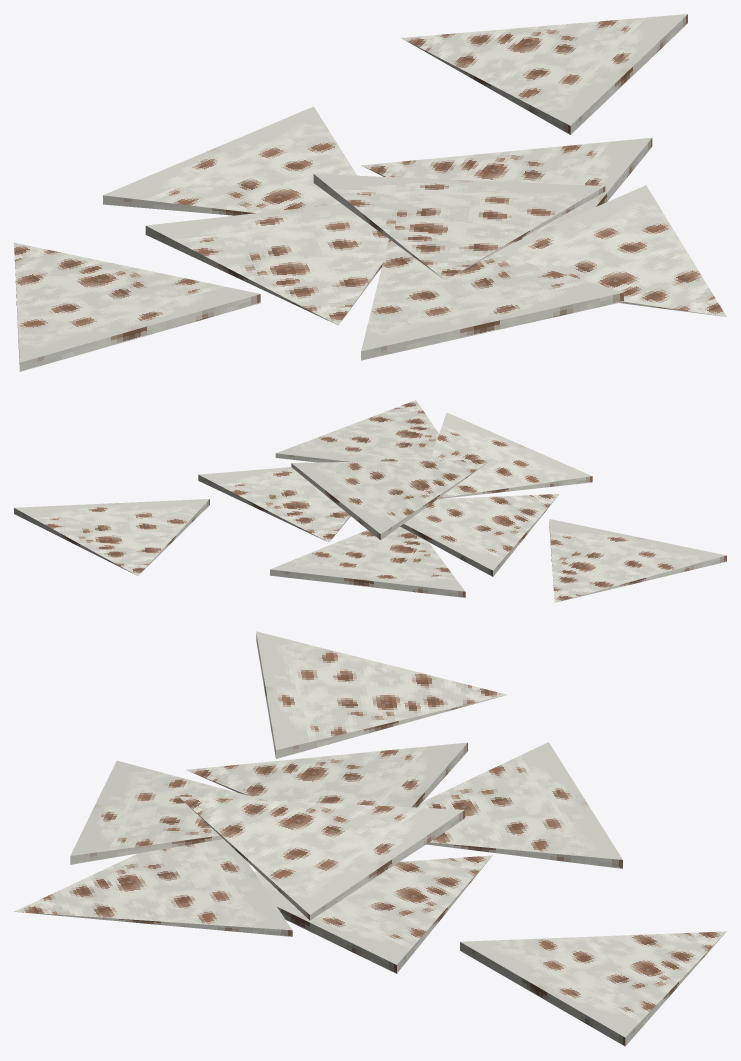
Rendered from CutTortilla.fbx.
3 renders of one model, top to bottom at view 1: azimuth 30°, elevation 25°; view 2: azimuth 150°, elevation 25°; view 3: azimuth 270°, elevation 25°, orthographic. The views are drawn at different scales.
Visible parts, largest first — view 1: TortillaChips; view 2: TortillaChips; view 3: TortillaChips.
Boxes of the visible parts, x1,y1,x2,y2 form: TortillaChips: (14,14,726,371); TortillaChips: (14,400,726,602); TortillaChips: (14,631,726,1046).
Bounding box in the file's own units: 44.73 × 1.43 × 33.16.
